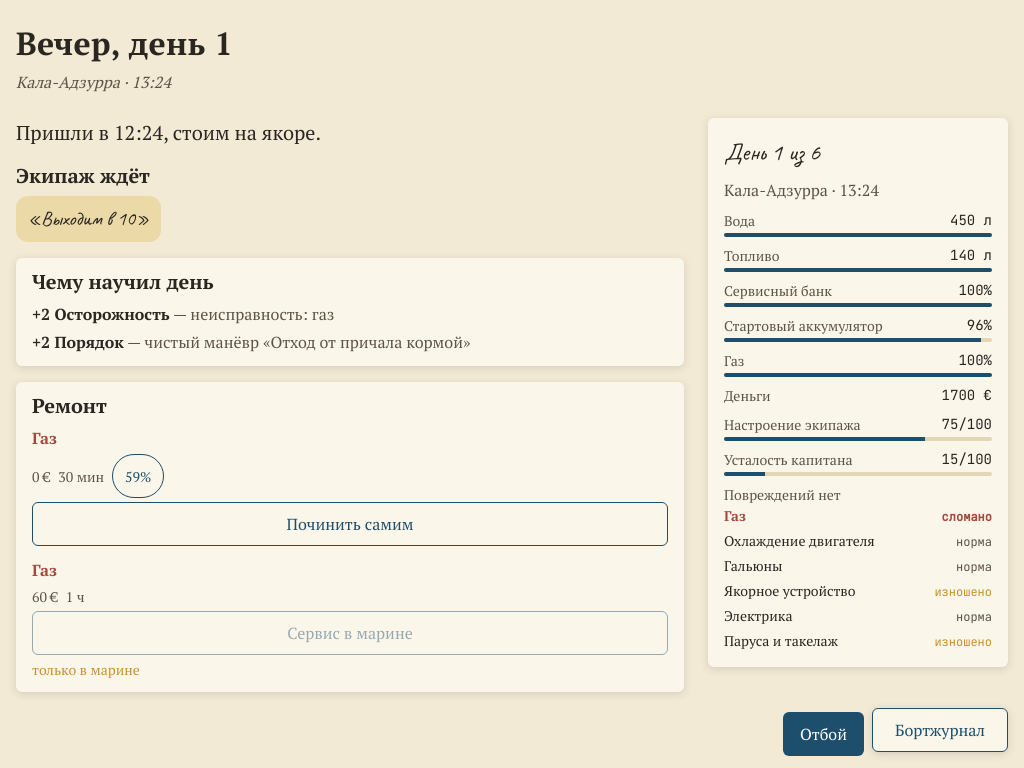
Test: LogbookDrawer › labels voice parts of past rolls without today's voice level
Click the button "Бортжурнал": coordinates (940, 730) [872, 708, 1008, 752]
(page scrolled)
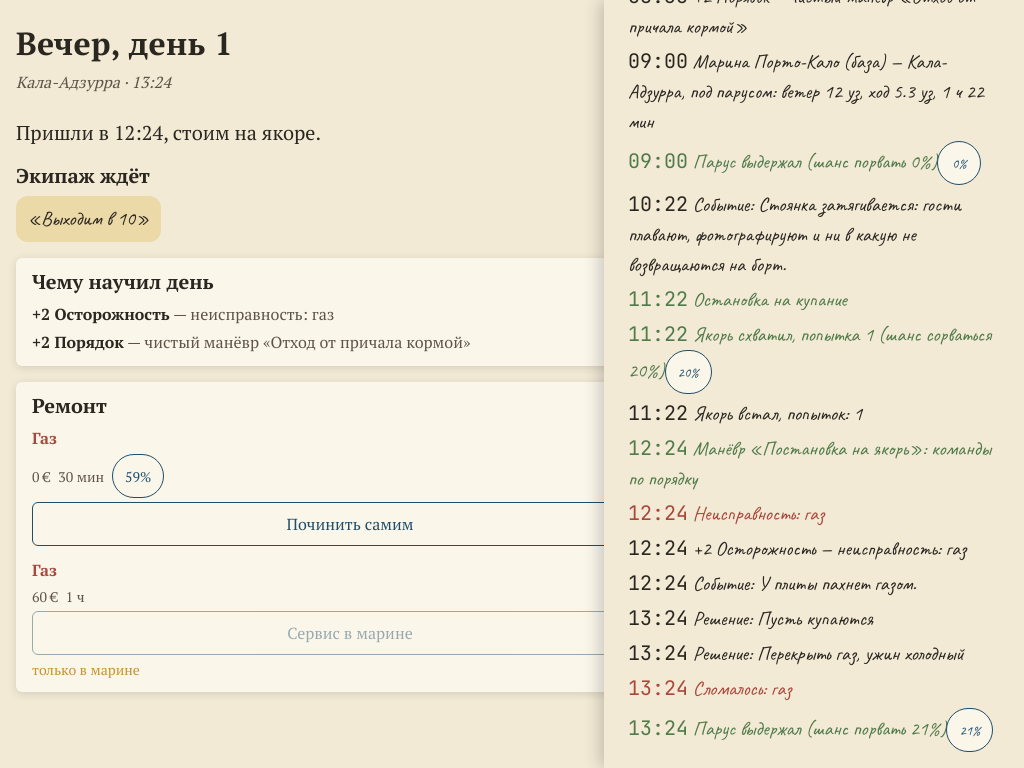
Click the button "21%": coordinates (970, 730) [946, 708, 993, 752]
(page scrolled)
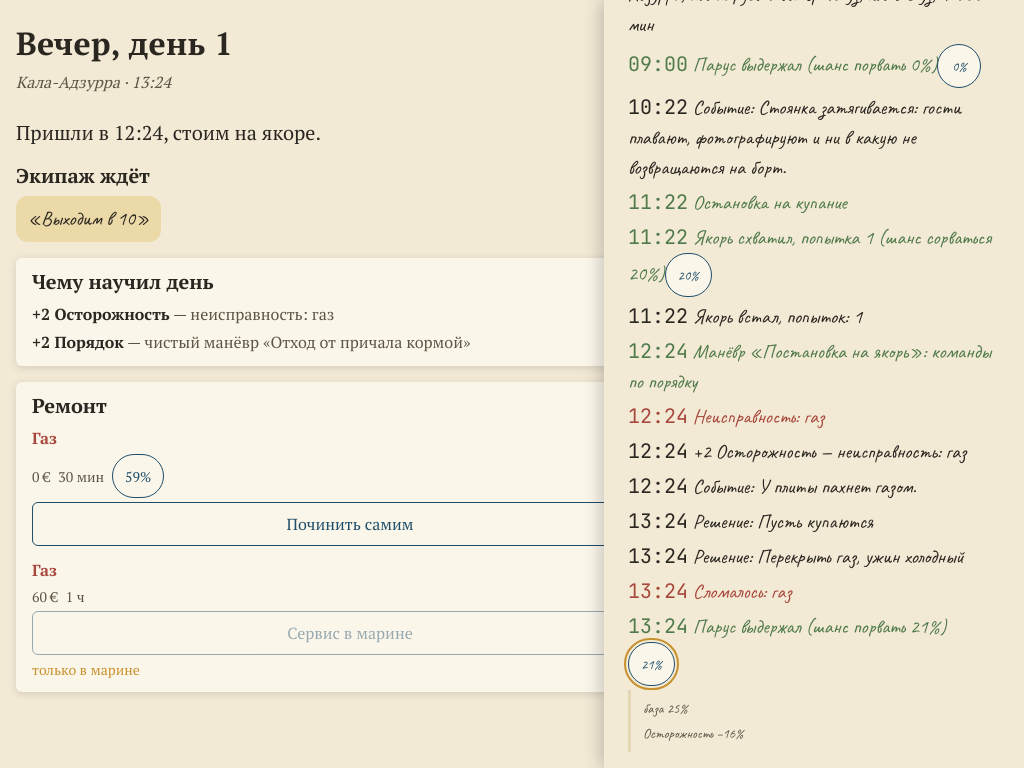
Expected: the list item "Осторожность −16%" is shown, [643, 723, 744, 744]
